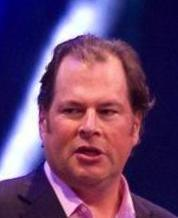face: (61, 101, 121, 163)
